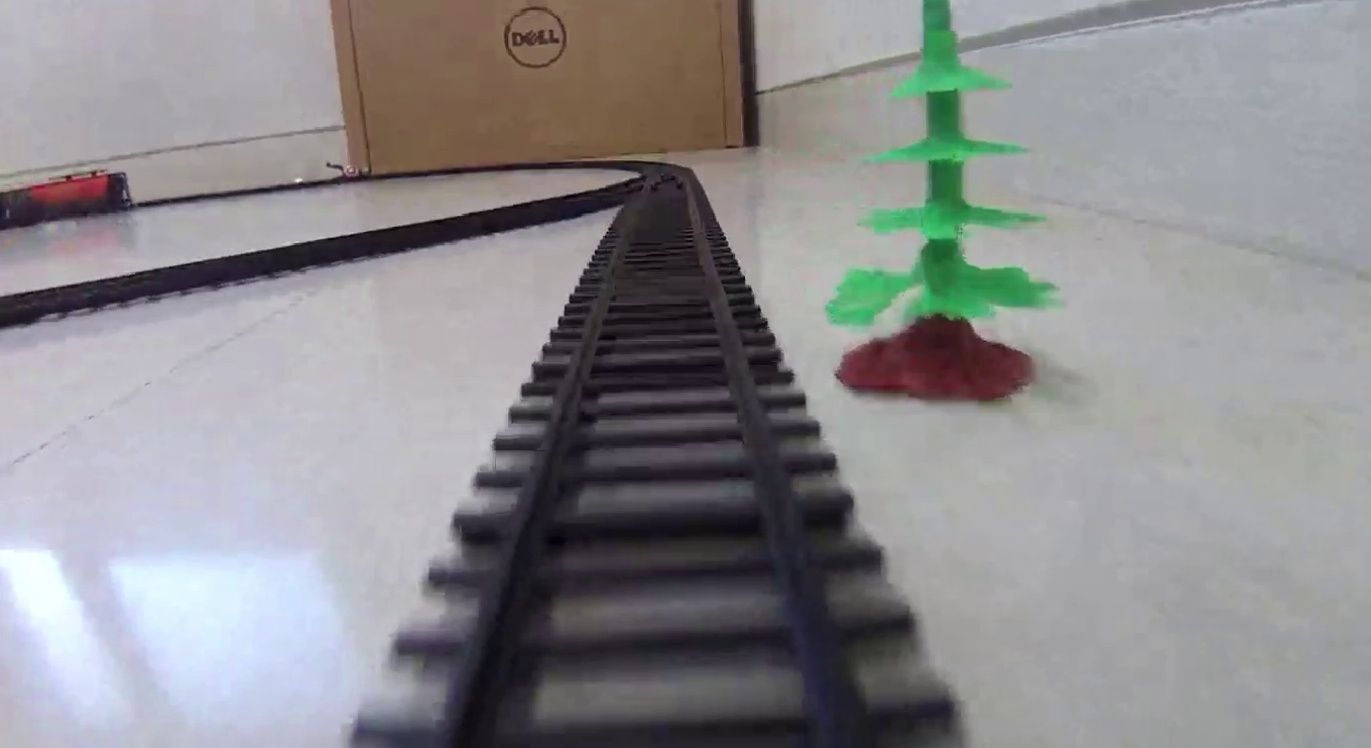tree: (830, 1, 1051, 399)
